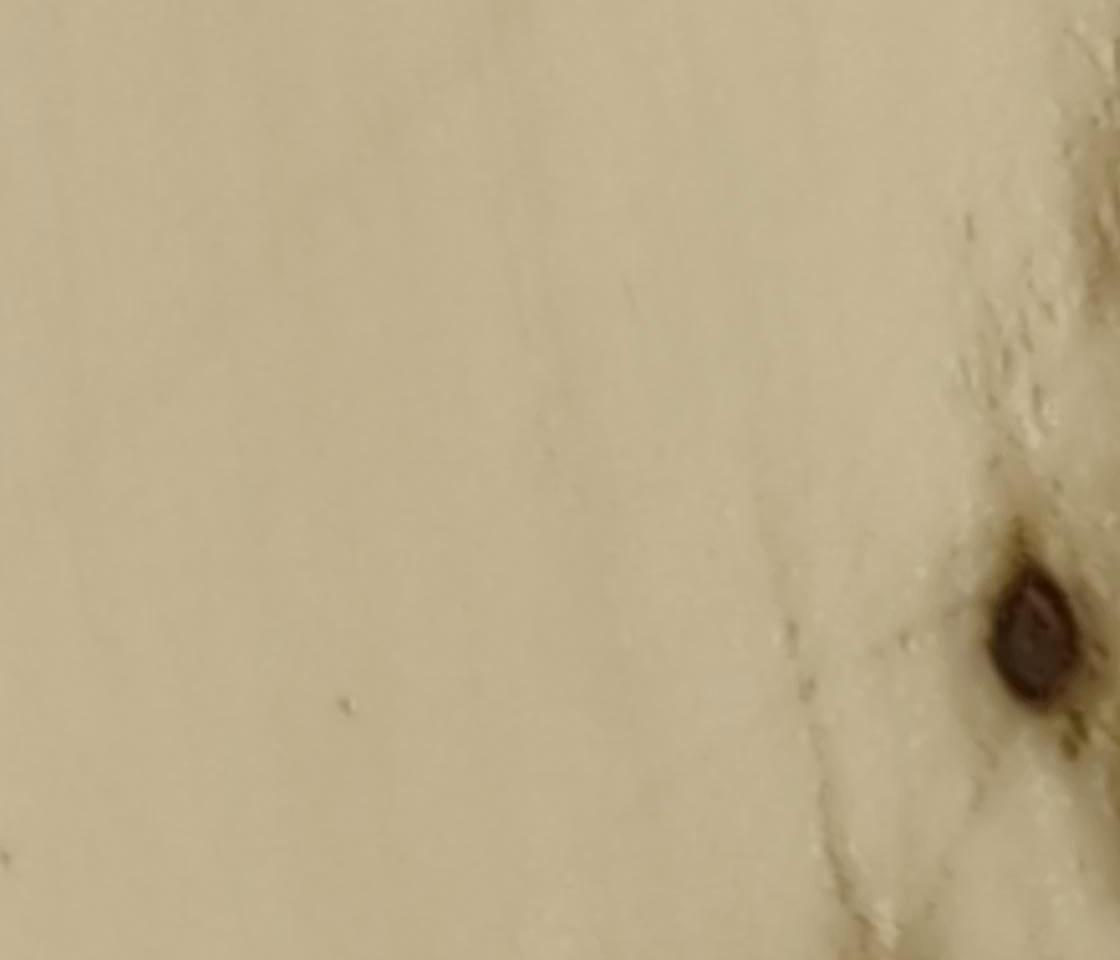rust: (999, 573, 1073, 701)
